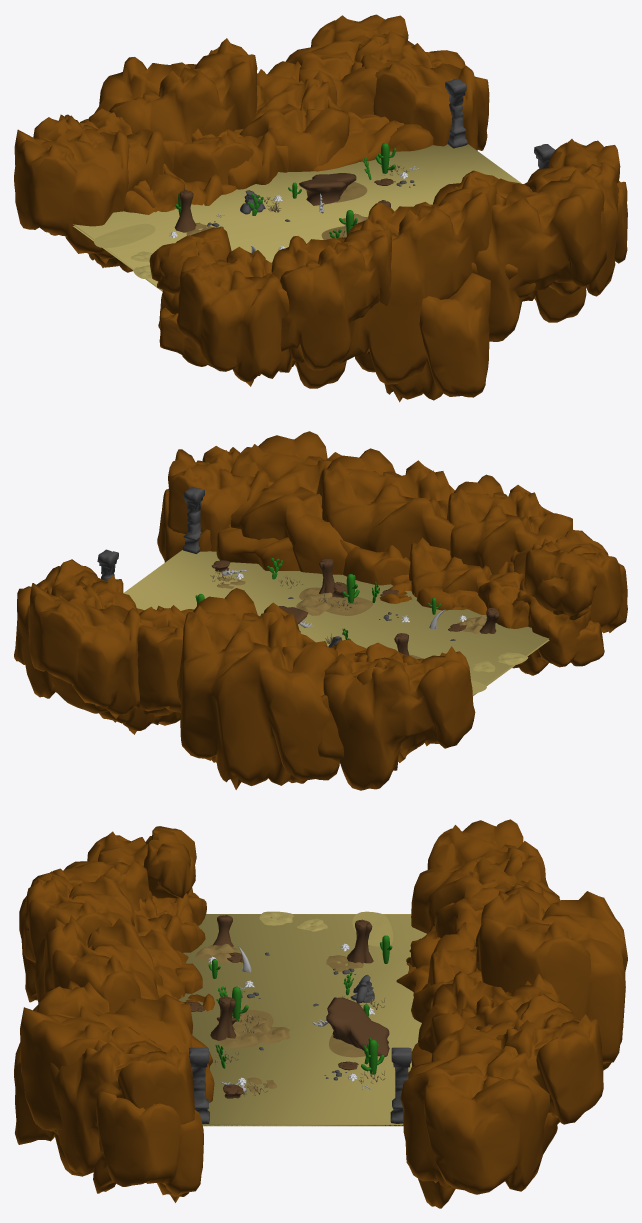
The model's file is Zones 2.fbx.
The picture shows the model from 3 angles, top to bottom: view 1: azimuth 30°, elevation 25°; view 2: azimuth 150°, elevation 25°; view 3: azimuth 270°, elevation 25°; orthographic projection. The views are drawn at different scales.
Parts seen in each view (by area): view 1: Zones.007, Zones.002, Zones.018, Zones.019, Zones.025, Zones.021; view 2: Zones.007, Zones.002, Zones.021, Zones.018, Zones.019, Zones.025; view 3: Zones.007, Zones.002, Zones.018, Zones.021, Zones.019, Zones.025, Zones.020.
Part boxes in pixels (x1,y1,x2,y2): Zones.007: (14, 14, 627, 402); Zones.002: (73, 144, 521, 291); Zones.018: (174, 173, 393, 232); Zones.019: (207, 78, 554, 228); Zones.025: (175, 143, 396, 249); Zones.021: (186, 181, 368, 239); Zones.007: (14, 431, 627, 790); Zones.002: (123, 550, 549, 695); Zones.021: (217, 577, 486, 659); Zones.018: (212, 558, 499, 655); Zones.019: (97, 486, 455, 647); Zones.025: (195, 558, 440, 639); Zones.007: (14, 819, 627, 1208); Zones.002: (178, 911, 426, 1126); Zones.018: (185, 915, 389, 1098); Zones.021: (195, 943, 365, 1092); Zones.019: (189, 952, 411, 1123); Zones.025: (208, 935, 392, 1074); Zones.020: (213, 995, 385, 1096).
Bounding box in the file's own units: 12313 × 12418 × 5266.
